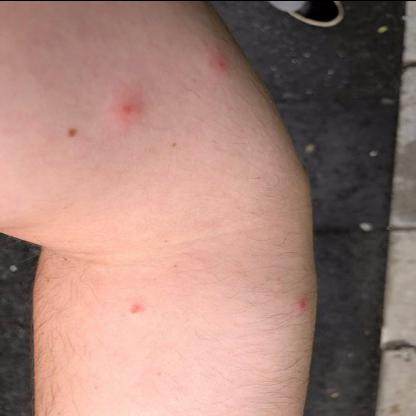Bed Bug: (107, 92, 141, 126), (123, 297, 156, 317), (291, 291, 313, 321), (206, 53, 228, 72)
